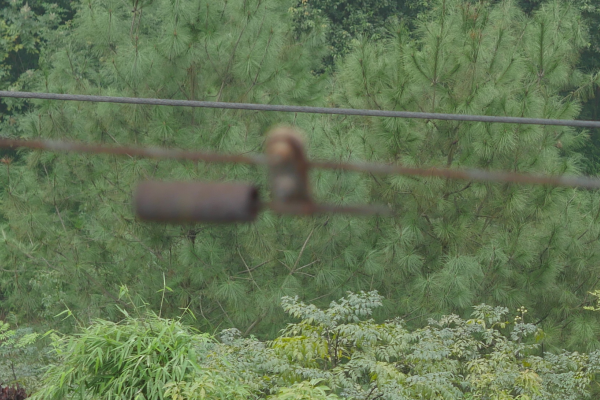damper_defect: (125, 116, 418, 230)
